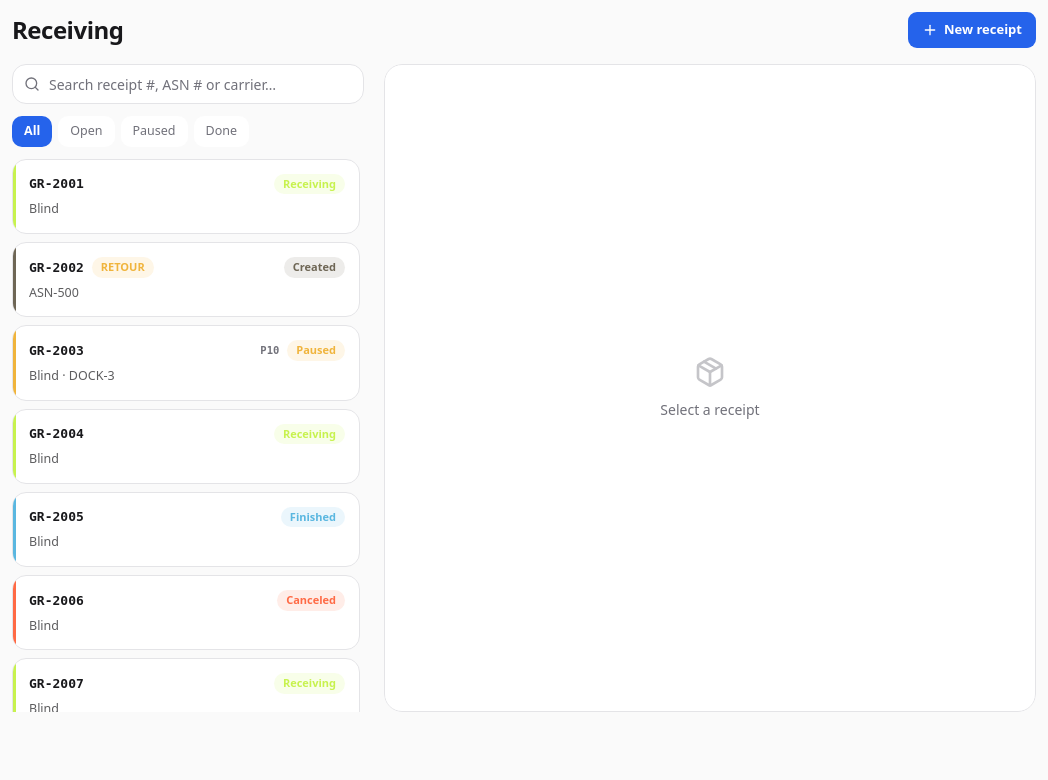
Test: ReceivingPage › Cancel is offered only for zero-line receipts, never a STARTED receipt with lines
The width and height of the screenshot is (1048, 780).
Click the button with test id "receipt-row-3". click: click(56, 350)
box: [12,325,360,401]
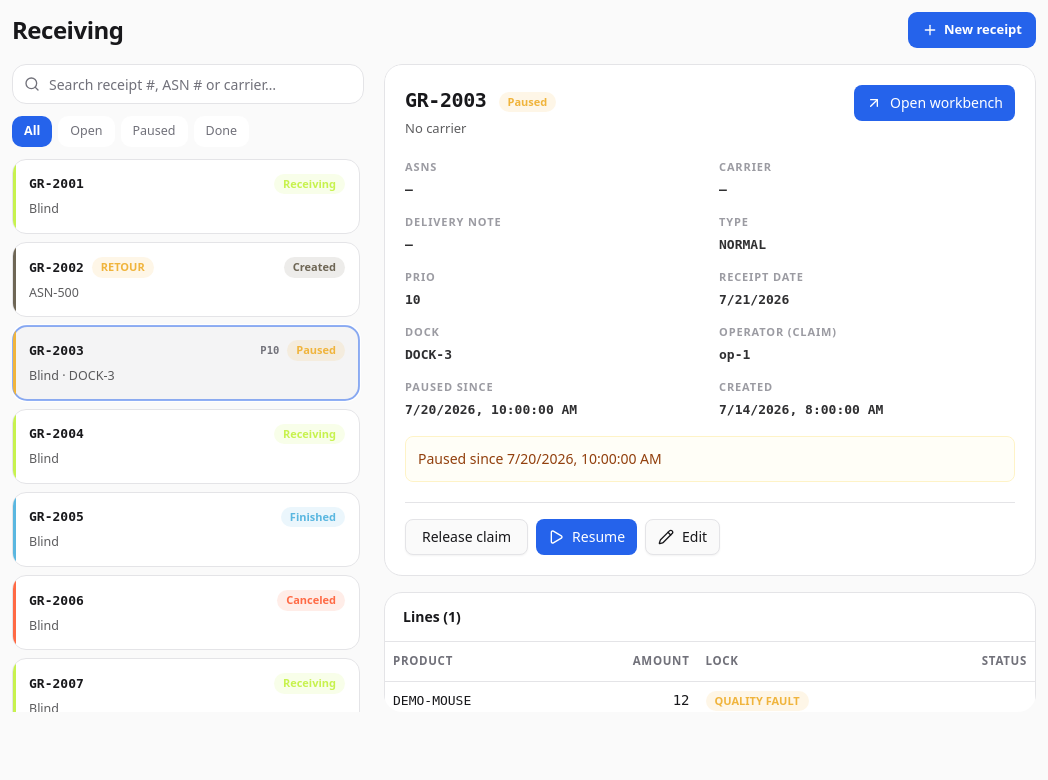
Click the button with test id "receipt-row-2". click: click(56, 267)
box: [12,242,360,317]
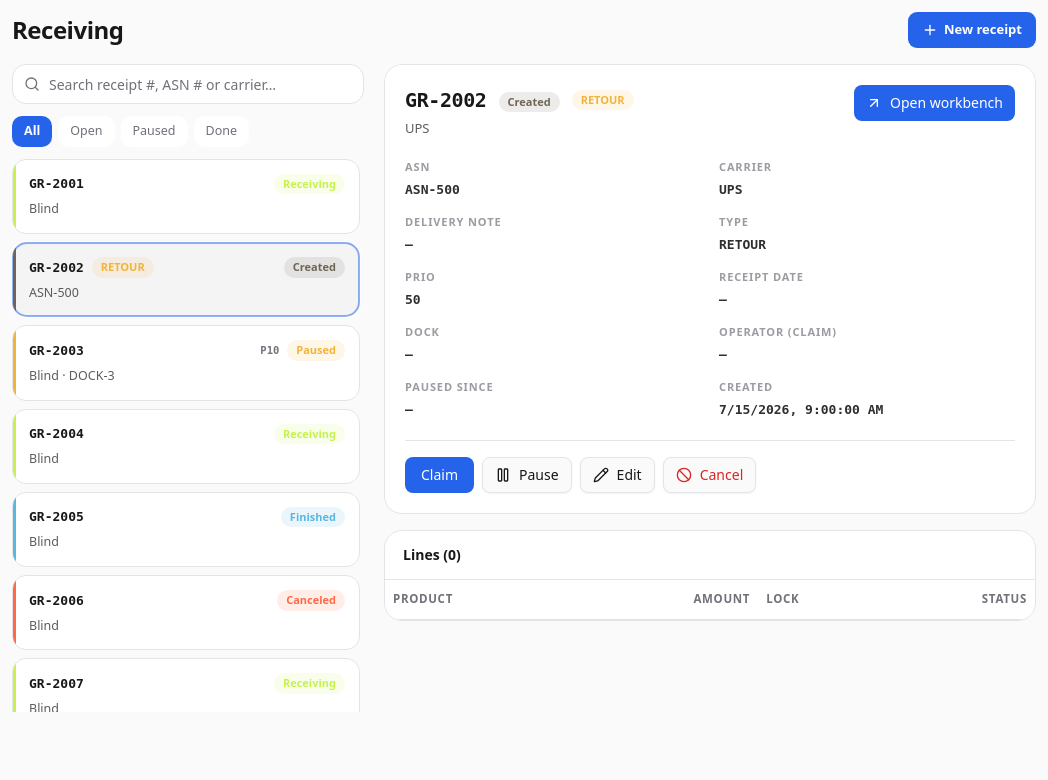
Expected: the button with test id "receipt-cancel-button" is shown, [663,456,756,492]
Click the button with test id "receipt-row-6". click: click(56, 600)
box: [12,575,360,650]
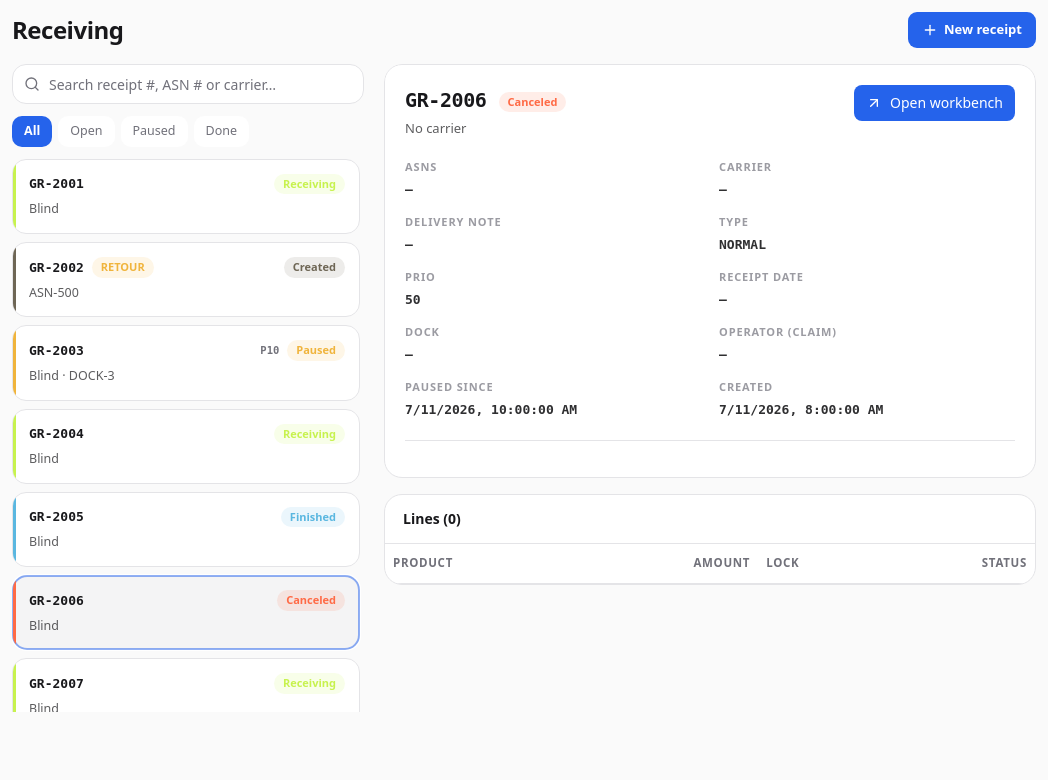
Expected: the button with test id "receipt-cancel-button" is gone
